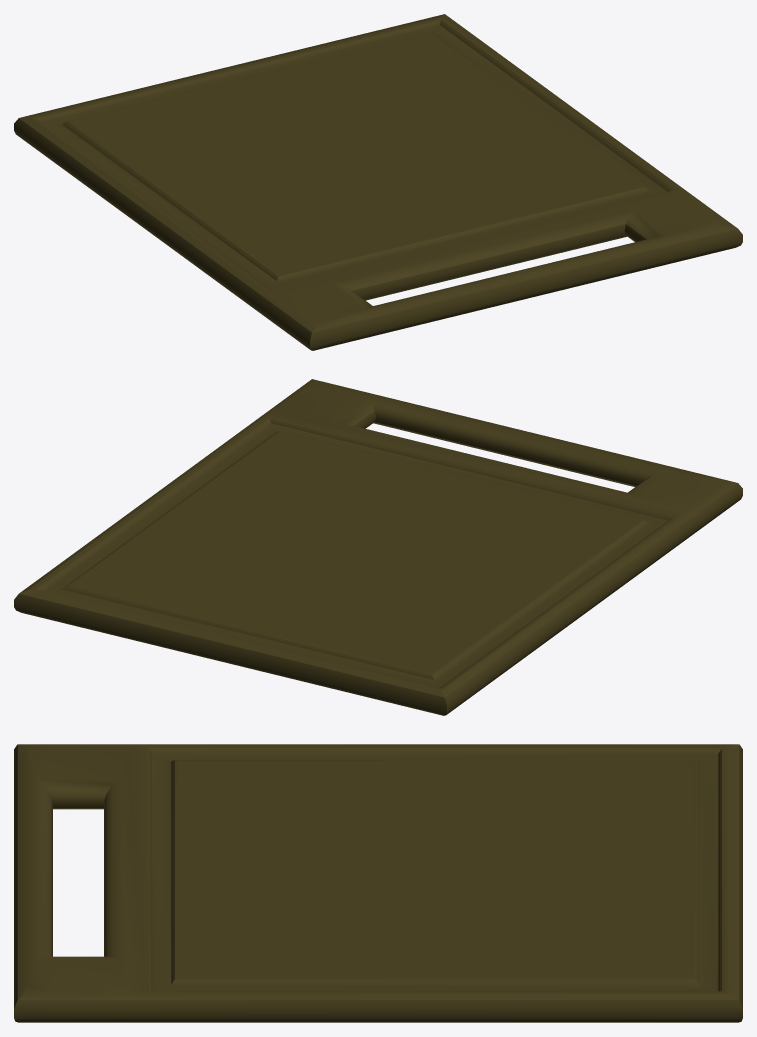
Rendered from Copping Board.fbx.
3 views of the same model, one above another, from view 1: azimuth 30°, elevation 25°; view 2: azimuth 150°, elevation 25°; view 3: azimuth 270°, elevation 25° (orthographic). The views are drawn at different scales.
Parts seen in each view (by area): view 1: Chopping_Board; view 2: Chopping_Board; view 3: Chopping_Board.
Part boxes in pixels (left/top/right/bottom): Chopping_Board: left=14, top=14, right=742, bottom=350; Chopping_Board: left=14, top=379, right=742, bottom=715; Chopping_Board: left=14, top=744, right=742, bottom=1022.
Bounding box in the file's own units: 20 × 1 × 23.7.
